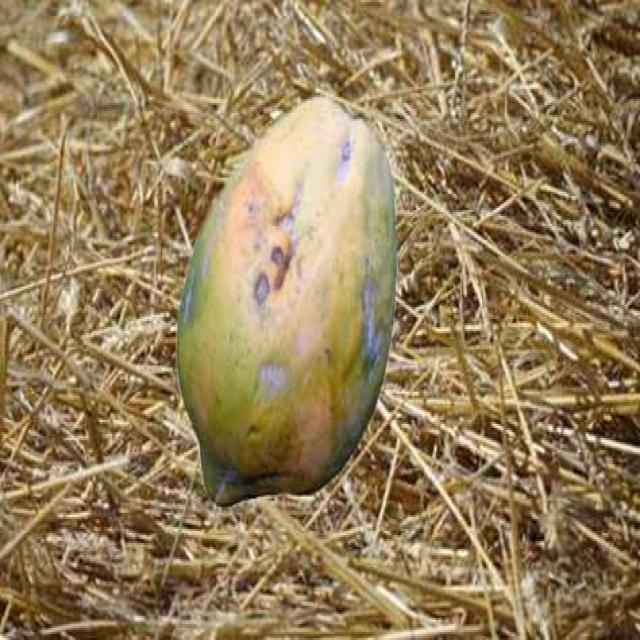Pepaya rippen: (177, 83, 398, 525)
